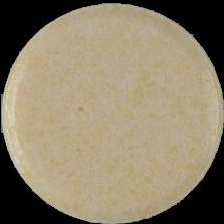0093-3012: (0, 0, 224, 224)
